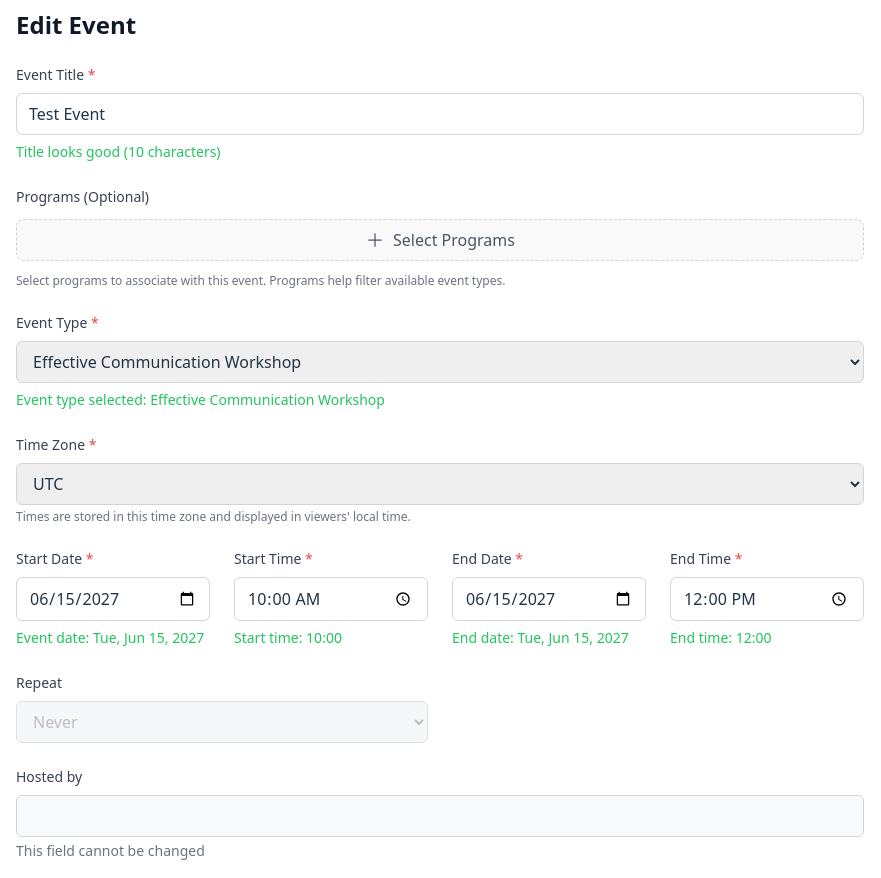
Test: EditEvent - Field Update Bug Fixes › keeps Update button disabled after field change until notification option chosen
Note: Change a field
Replace the text in the field with placeholder "Enter event title" with "Test Event (edited)" at (440, 114), box [16,93,864,135]
(page scrolled)
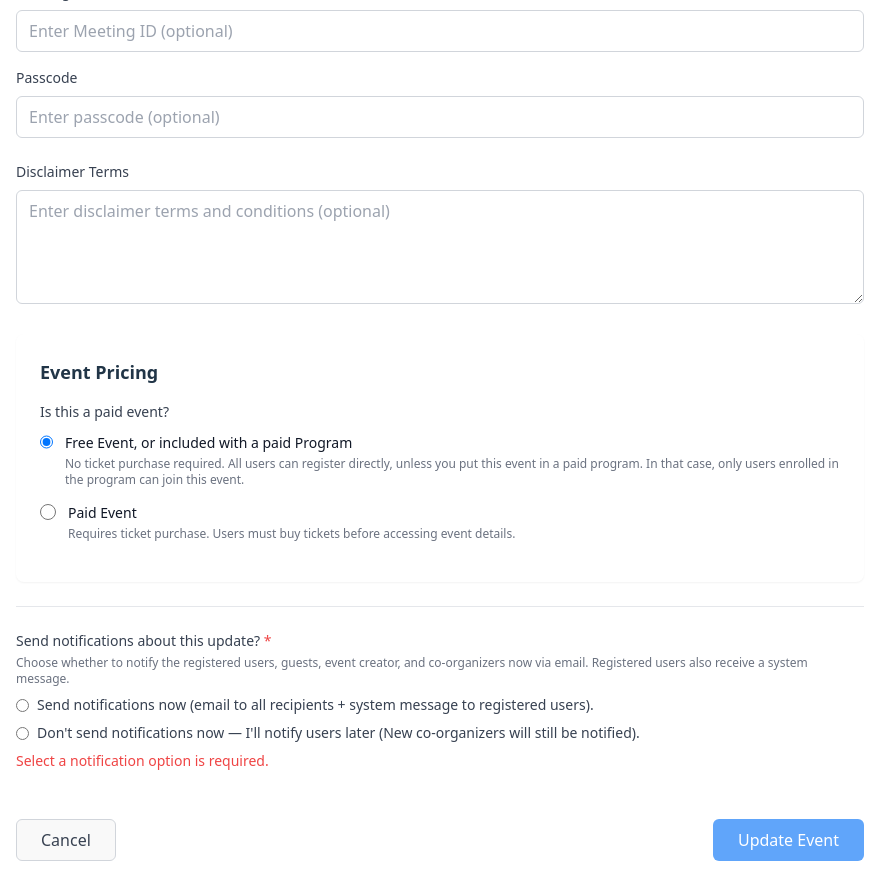
Expected: the button "Update Event" is disabled, [713,819,864,861]
Click the radio button labelled "Send notifications now" at (22, 706), box [16,699,29,712]
(page scrolled)
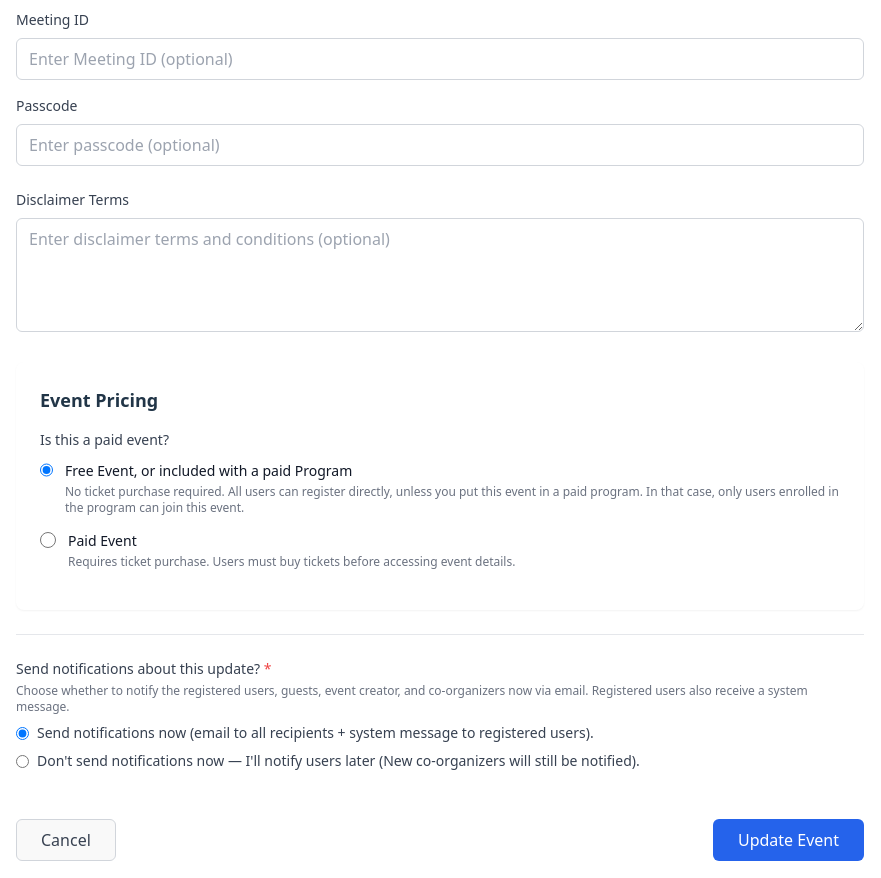
Now the button "Update Event" is enabled, box [713,819,864,861]
